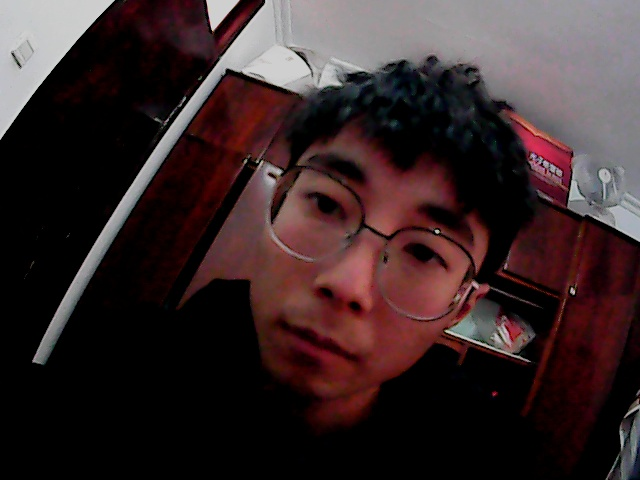face: (244, 55, 522, 406)
